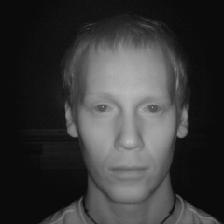normal: (56, 24, 197, 208)
